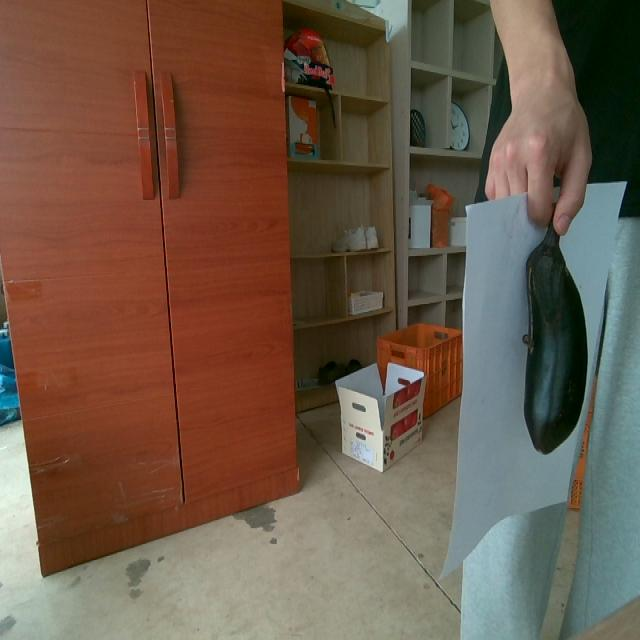Egg plant: (522, 224, 587, 453)
